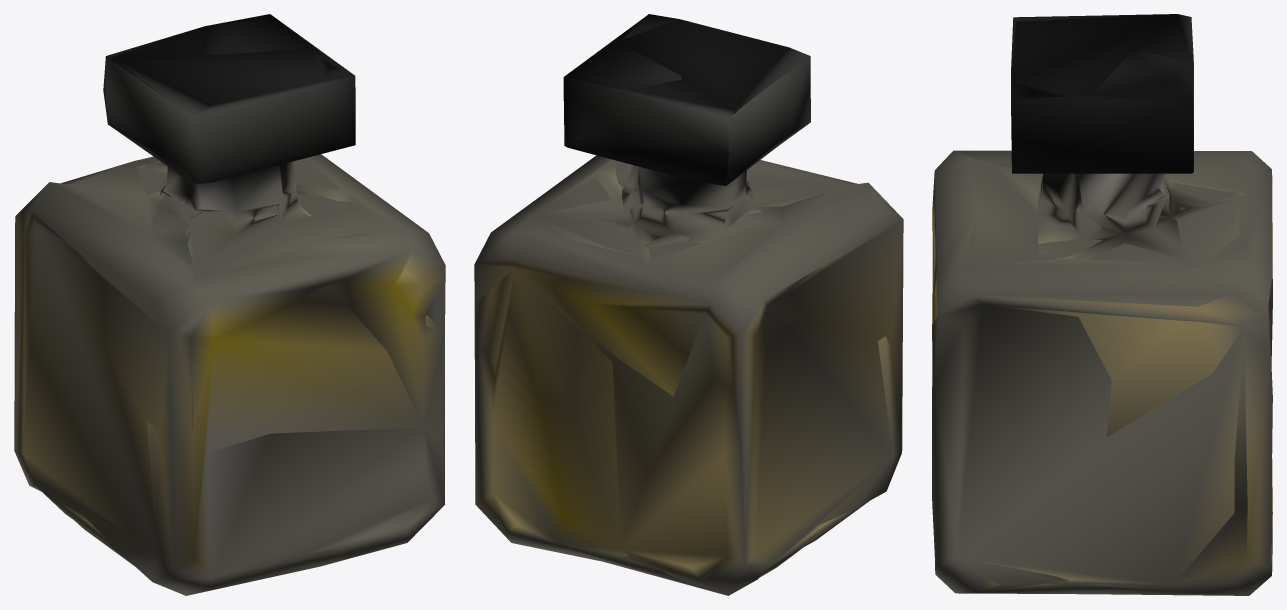
File: gen3d-perfume-lod1.glb
The picture shows the model from 3 angles, left to right: view 1: azimuth 30°, elevation 25°; view 2: azimuth 150°, elevation 25°; view 3: azimuth 270°, elevation 25°; orthographic projection. The views are drawn at different scales.
Visible parts, largest first — view 1: part_0; view 2: part_0; view 3: part_0.
Boxes of the visible parts, x1=… form: part_0: x1=14, y1=14, x2=445, y2=595; part_0: x1=474, y1=14, x2=903, y2=595; part_0: x1=932, y1=14, x2=1272, y2=595.
Bounding box in the file's own units: 0.6306 × 0.9999 × 0.6349.
